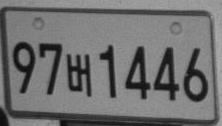1: (97, 44, 124, 98)
4: (153, 46, 180, 101), (124, 46, 150, 99)
6: (182, 47, 208, 103)
7: (38, 42, 62, 94)
9: (12, 40, 35, 94)
버: (66, 53, 91, 96)
